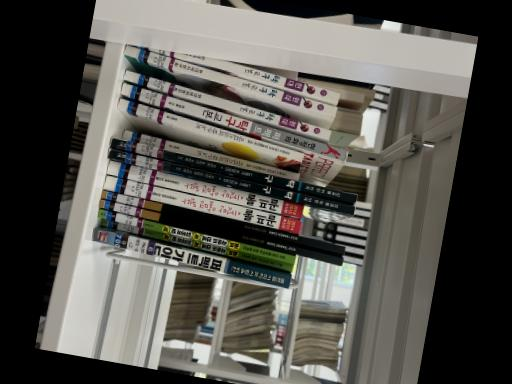book-spine: (120, 82, 347, 161), (109, 137, 357, 204), (107, 149, 354, 215), (98, 199, 343, 265), (100, 190, 345, 254), (123, 44, 337, 117), (123, 69, 331, 139), (91, 228, 290, 288), (117, 98, 303, 161), (103, 175, 301, 234), (139, 46, 339, 104), (106, 160, 303, 218), (97, 209, 295, 263), (100, 218, 292, 271), (122, 129, 299, 180)
